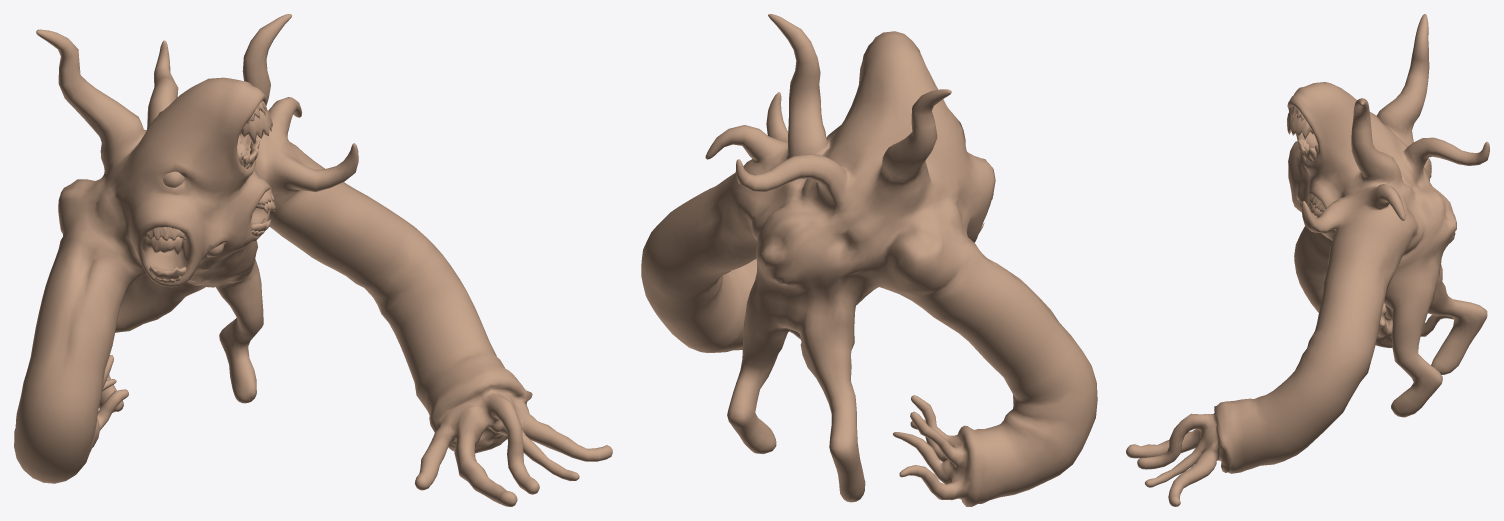
File: LOVECRAFTIAN_HORROR_NM.fbx
3 views of the same model, side by side, from view 1: azimuth 30°, elevation 25°; view 2: azimuth 150°, elevation 25°; view 3: azimuth 270°, elevation 25° (orthographic). The views are drawn at different scales.
Parts seen in each view (by area): view 1: Group28166, Group63675, Group33359; view 2: Group28166; view 3: Group28166, Group63675, Group33359.
Part boxes in pixels (x1,y1,x2,y2): Group28166: [14, 14, 612, 506]; Group63675: [141, 109, 275, 280]; Group33359: [144, 101, 274, 283]; Group28166: [641, 14, 1097, 506]; Group28166: [1126, 14, 1489, 506]; Group63675: [1287, 112, 1322, 217]; Group33359: [1289, 106, 1325, 211].
Size of the model in its own units: 38.22 by 30.65 by 30.36.
